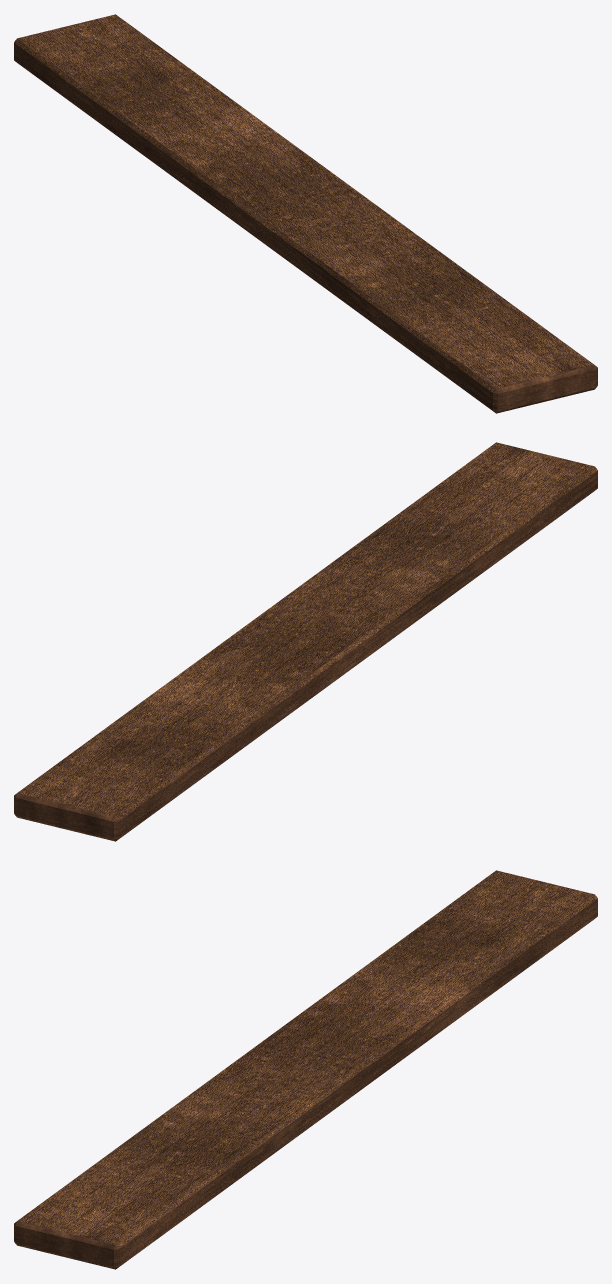
The model's file is wood_board.fbx.
The picture shows the model from 3 angles, top to bottom: view 1: azimuth 30°, elevation 25°; view 2: azimuth 150°, elevation 25°; view 3: azimuth 330°, elevation 25°; orthographic projection.
Parts seen in each view (by area): view 1: Cube.011; view 2: Cube.011; view 3: Cube.011.
Part boxes in pixels (left/top/right/bottom): Cube.011: left=14, top=14, right=597, bottom=413; Cube.011: left=14, top=442, right=597, bottom=841; Cube.011: left=14, top=870, right=597, bottom=1269.
Size of the model in its own units: 25.11 by 5.63 by 200.
